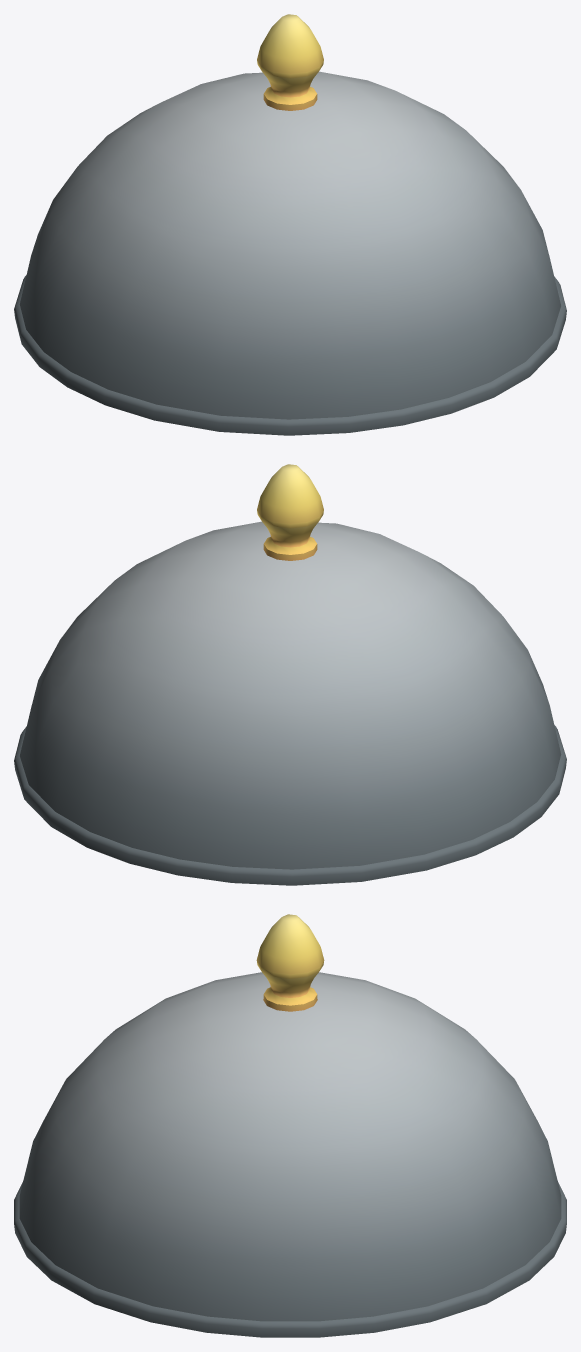
File: serving_lid_003.fbx
3 views of the same model, one above another, from view 1: azimuth 30°, elevation 25°; view 2: azimuth 150°, elevation 25°; view 3: azimuth 270°, elevation 25° (orthographic).
Visible parts, largest first — view 1: serving_lid_003; view 2: serving_lid_003; view 3: serving_lid_003.
Part boxes in pixels (bbox=[...]): serving_lid_003: bbox=[14, 14, 566, 435]; serving_lid_003: bbox=[14, 464, 566, 885]; serving_lid_003: bbox=[14, 914, 566, 1337].
Size of the model in its own units: 35.57 by 35.57 by 21.64.
